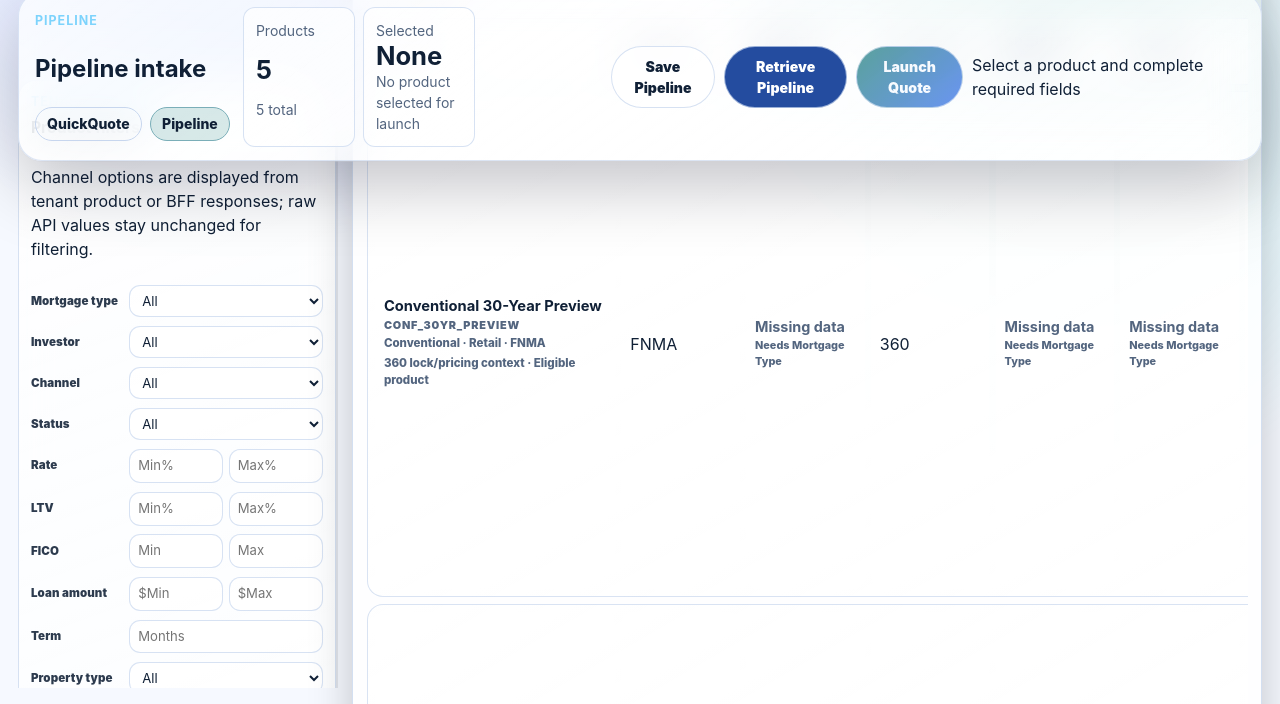
Test case: PipelineIntakeTest › rendersOperationalNoTextPipelineWithStateChipsInsteadOfHelpCopy
This screenshot has width=1280, height=704.
(page scrolled)
Click the row named "Conventional 30-Year Preview ACTIVE" at (823, 344), box [367,91,1279,597]
(page scrolled)
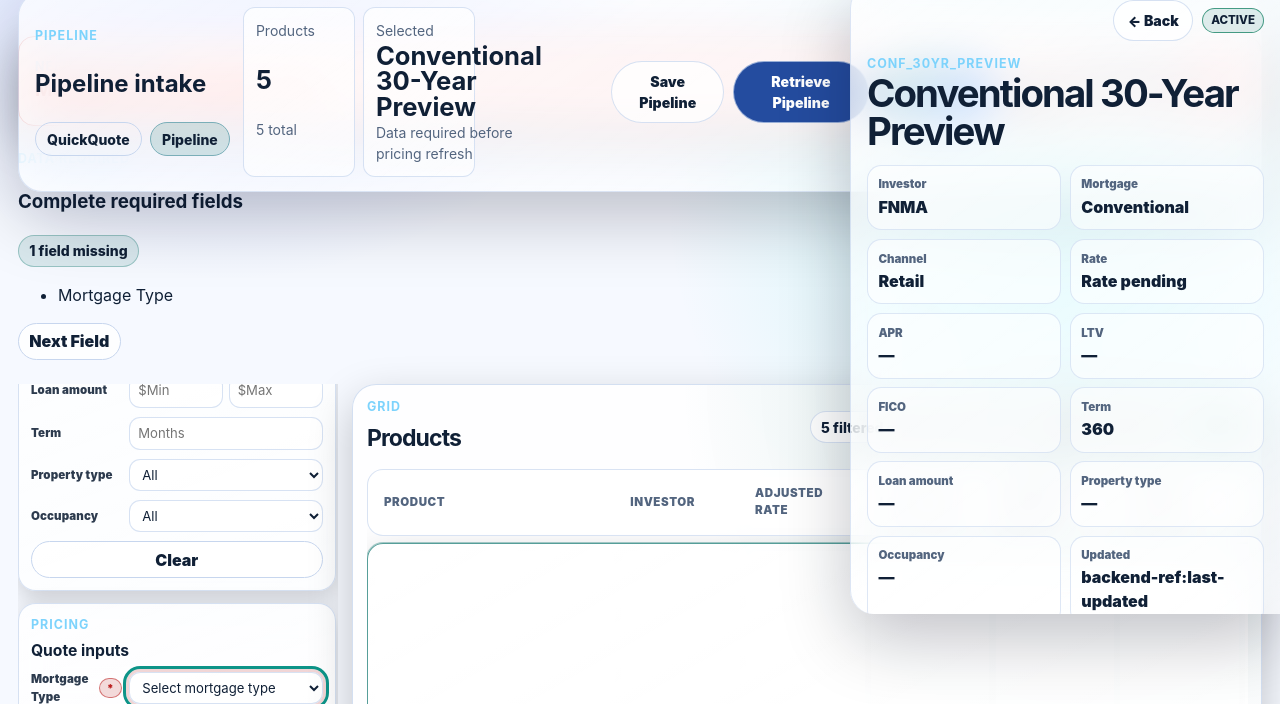
expect the text named "Required field count" shows "field missing": met, box [18,235,139,267]
